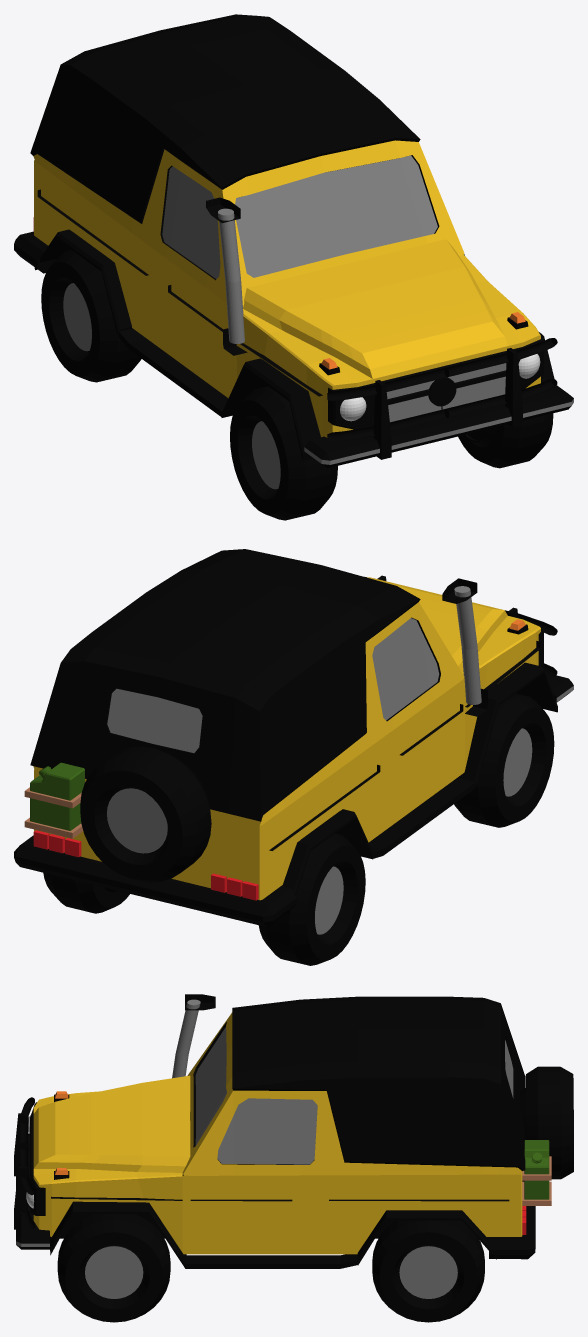
Rendered from Авто 19.fbx.
3 views of the same model, one above another, from view 1: azimuth 30°, elevation 25°; view 2: azimuth 150°, elevation 25°; view 3: azimuth 270°, elevation 25° (orthographic). The views are drawn at different scales.
Parts seen in each view (by area): view 1: Cube, Cylinder.001, Cylinder, Cylinder.002; view 2: Cube, Cylinder.001, Cube.001, Cylinder; view 3: Cube, Cylinder.001, Cube.001, Cylinder.
Part boxes in pixels (left/top/right/bottom): Cube: left=14, top=14, right=573, bottom=468; Cylinder.001: left=41, top=250, right=553, bottom=520; Cylinder: left=206, top=197, right=247, bottom=355; Cylinder.002: left=428, top=377, right=456, bottom=406; Cube: left=14, top=549, right=573, bottom=927; Cylinder.001: left=43, top=693, right=554, bottom=965; Cube.001: left=24, top=762, right=84, bottom=838; Cylinder: left=442, top=578, right=487, bottom=716; Cube: left=14, top=996, right=535, bottom=1268; Cylinder.001: left=57, top=1066, right=573, bottom=1322; Cube.001: left=522, top=1140, right=551, bottom=1205; Cylinder: left=172, top=994, right=215, bottom=1078.
Size of the model in its own units: 103 by 109 by 226.
